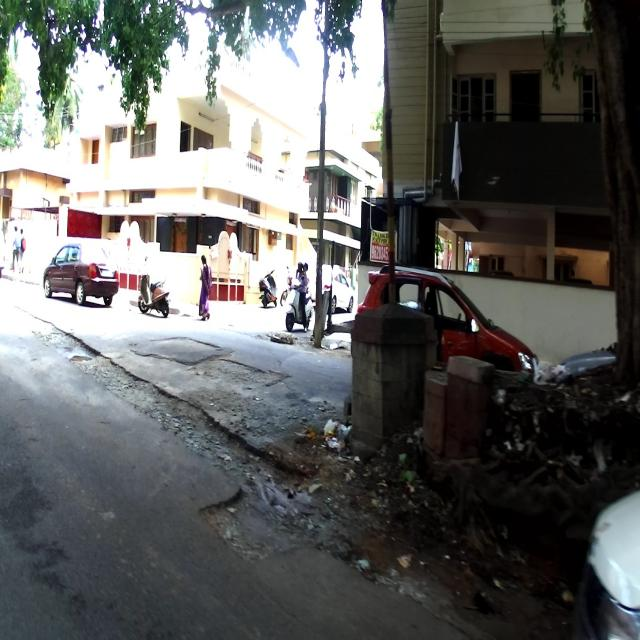car: (350, 266, 538, 374), (42, 238, 120, 304)
scooter: (137, 254, 170, 316), (284, 272, 313, 334)
